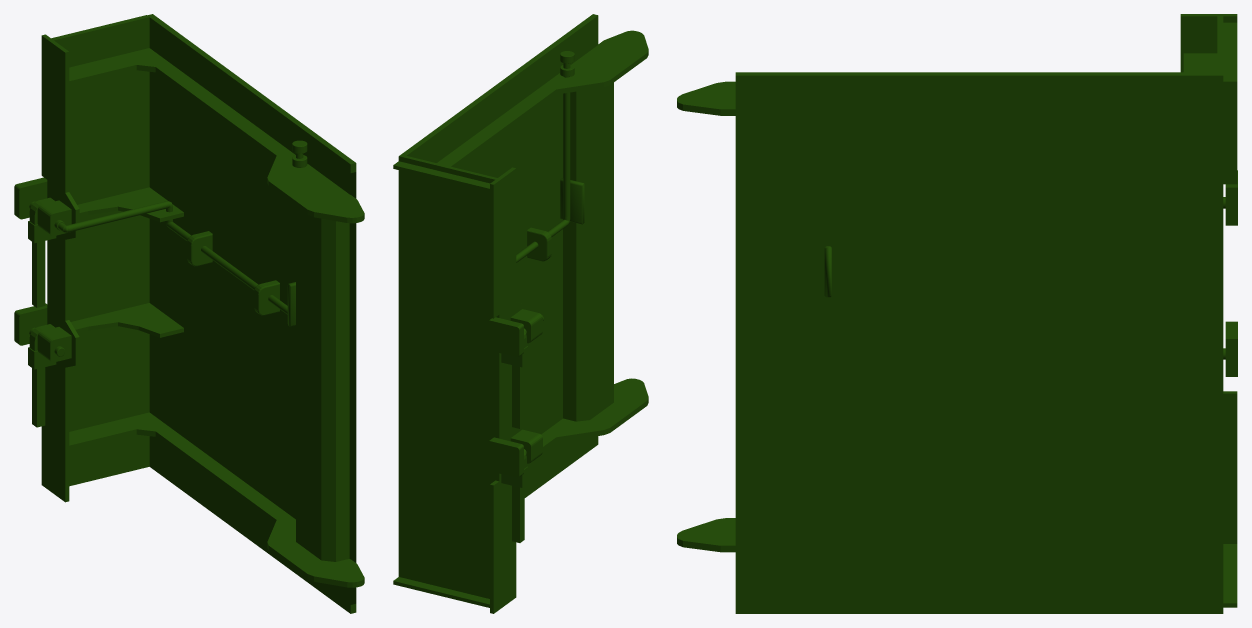
The model's file is debarker_door1.glb.
The picture shows the model from 3 angles, left to right: view 1: azimuth 30°, elevation 25°; view 2: azimuth 150°, elevation 25°; view 3: azimuth 270°, elevation 25°; orthographic projection. The views are drawn at different scales.
Visible parts, largest first — view 1: DOOR1; view 2: DOOR1; view 3: DOOR1.
Boxes of the visible parts, x1,y1,x2,y2 form: DOOR1: [14, 14, 364, 613]; DOOR1: [393, 14, 648, 613]; DOOR1: [677, 14, 1237, 613].
Size of the model in its own units: 0.5183 by 1.67 by 1.58.
